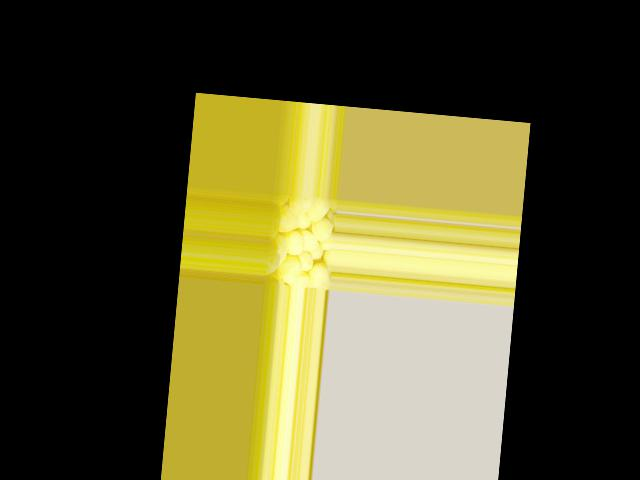lemon: (310, 210, 335, 244)
